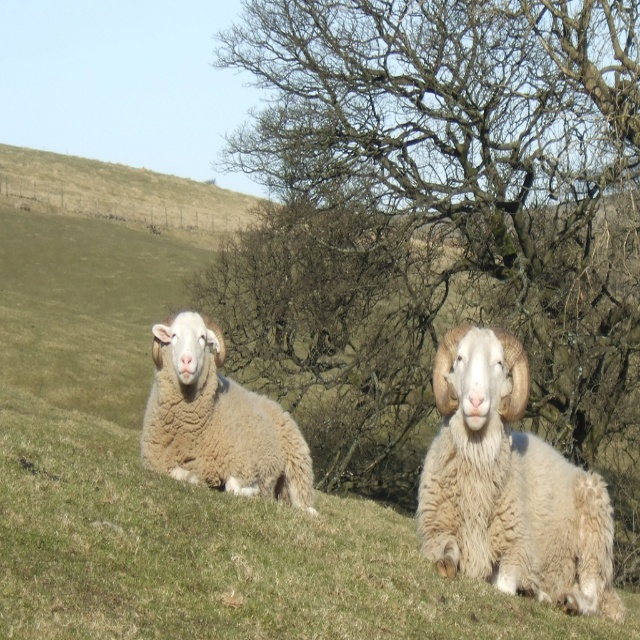Sheep: (413, 325, 626, 626), (146, 318, 328, 521)
